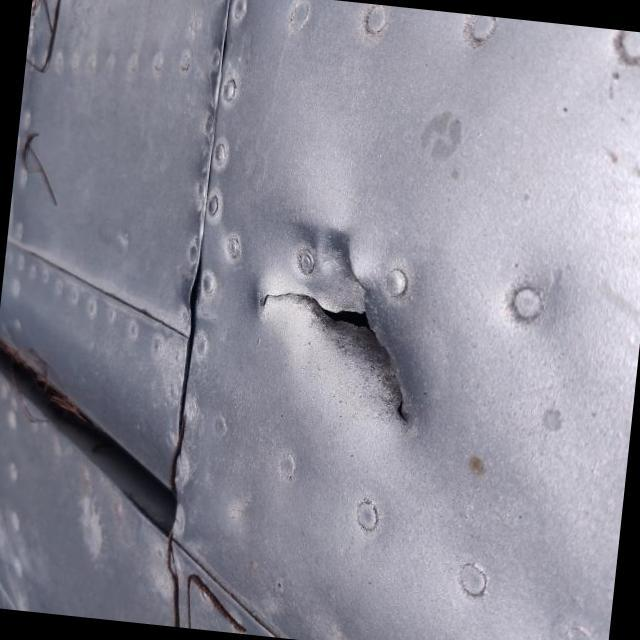Rupture: (158, 209, 438, 459)
